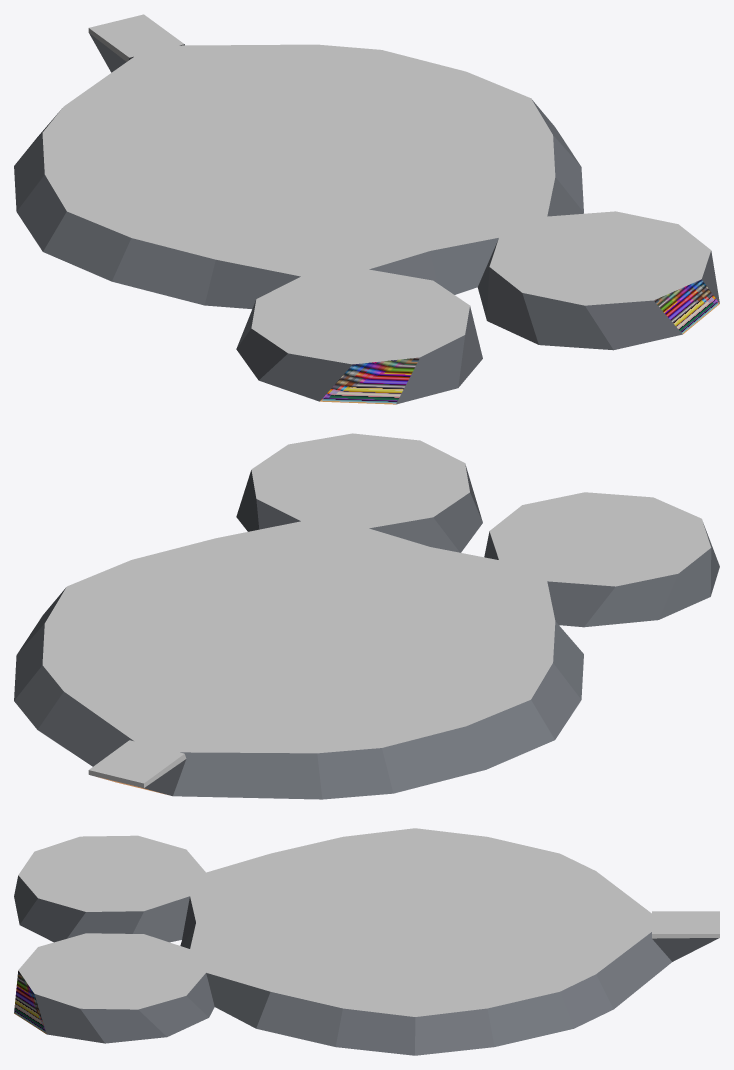
The model's file is levelend2 (1).fbx.
3 views of the same model, one above another, from view 1: azimuth 30°, elevation 25°; view 2: azimuth 150°, elevation 25°; view 3: azimuth 270°, elevation 25° (orthographic). The views are drawn at different scales.
Visible parts, largest first — view 1: road.002; view 2: road.002; view 3: road.002.
Boxes of the visible parts, x1=… form: road.002: x1=14, y1=14, x2=719, y2=404; road.002: x1=14, y1=433, x2=719, y2=799; road.002: x1=14, y1=828, x2=719, y2=1055.
Bounding box in the file's own units: 27.24 × 2.13 × 38.97.
